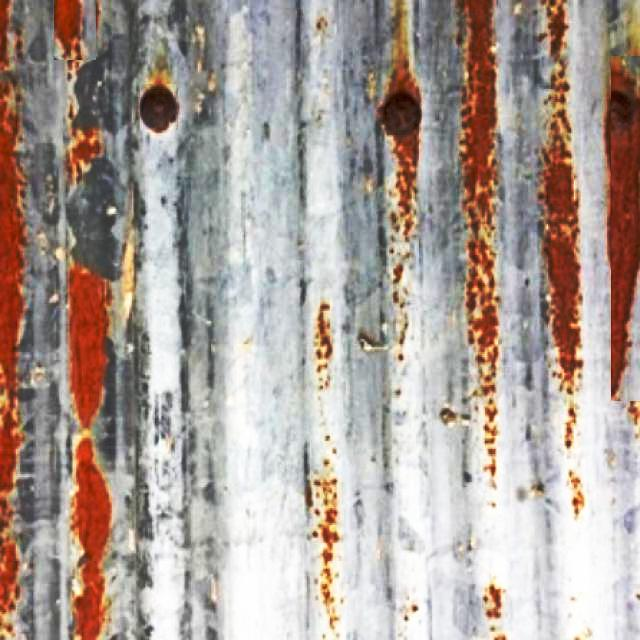Corrosion: (459, 0, 499, 489), (544, 0, 583, 451), (379, 0, 421, 370), (0, 78, 22, 640), (307, 302, 342, 640), (607, 62, 640, 397), (73, 440, 109, 640), (68, 268, 105, 428), (67, 126, 100, 181), (139, 86, 176, 132), (53, 0, 79, 54), (314, 304, 332, 374)
